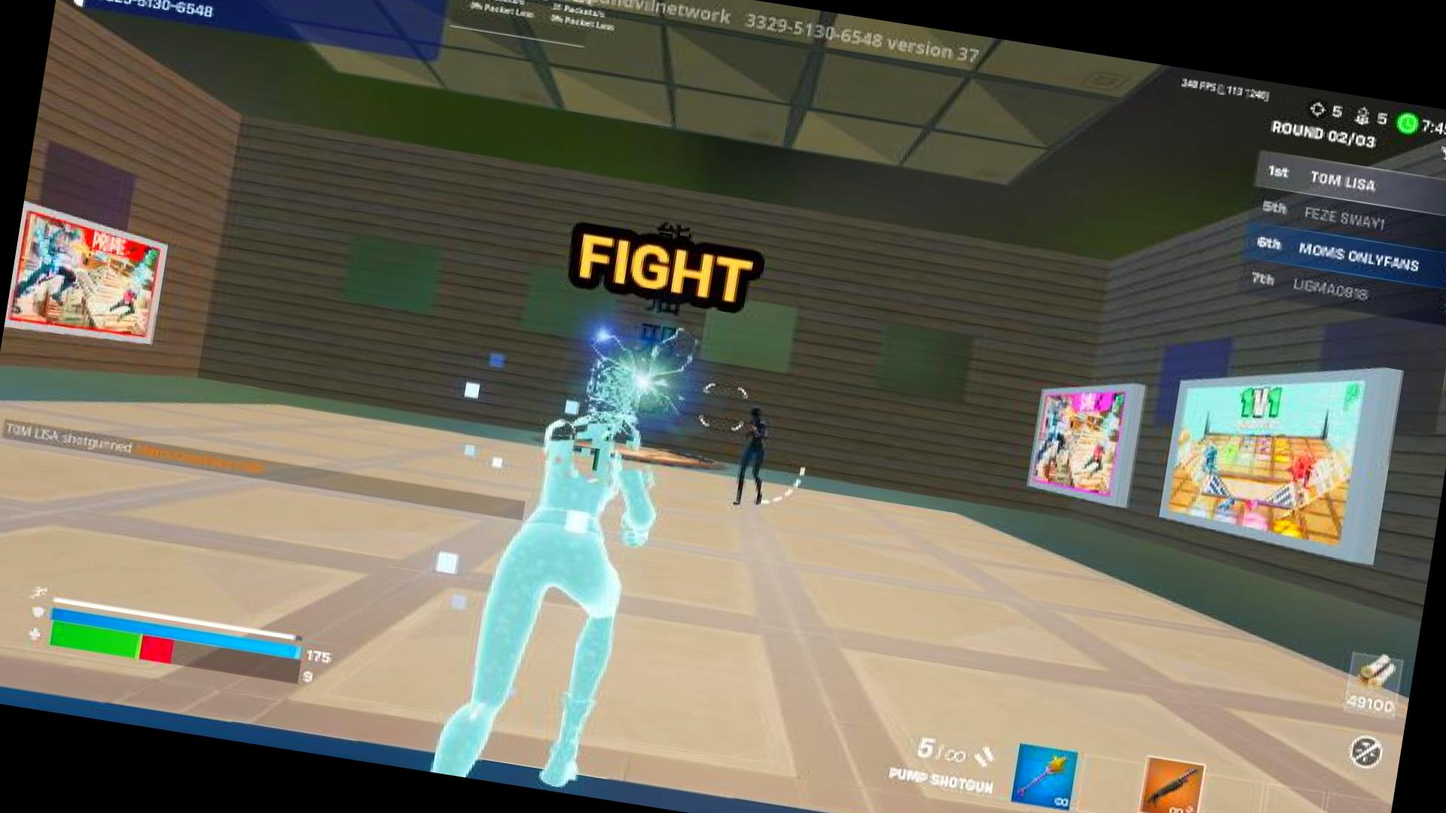player: (712, 391, 794, 519)
